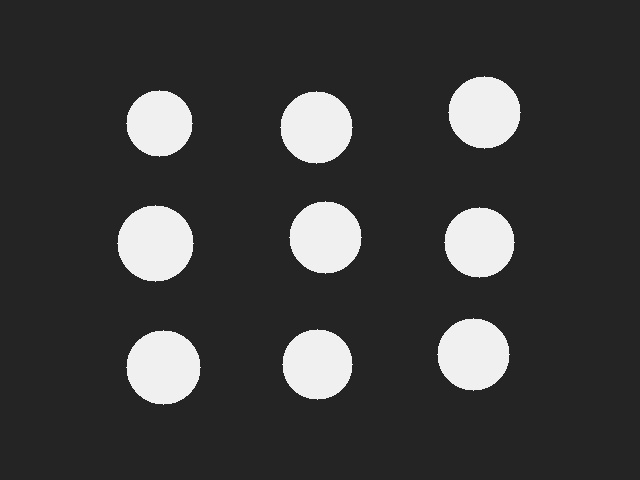hole: (117, 205, 193, 281), (126, 330, 200, 404), (280, 91, 352, 163), (448, 76, 520, 148), (289, 201, 361, 273), (437, 318, 509, 390), (444, 207, 514, 277), (282, 329, 352, 399), (126, 90, 192, 156)
